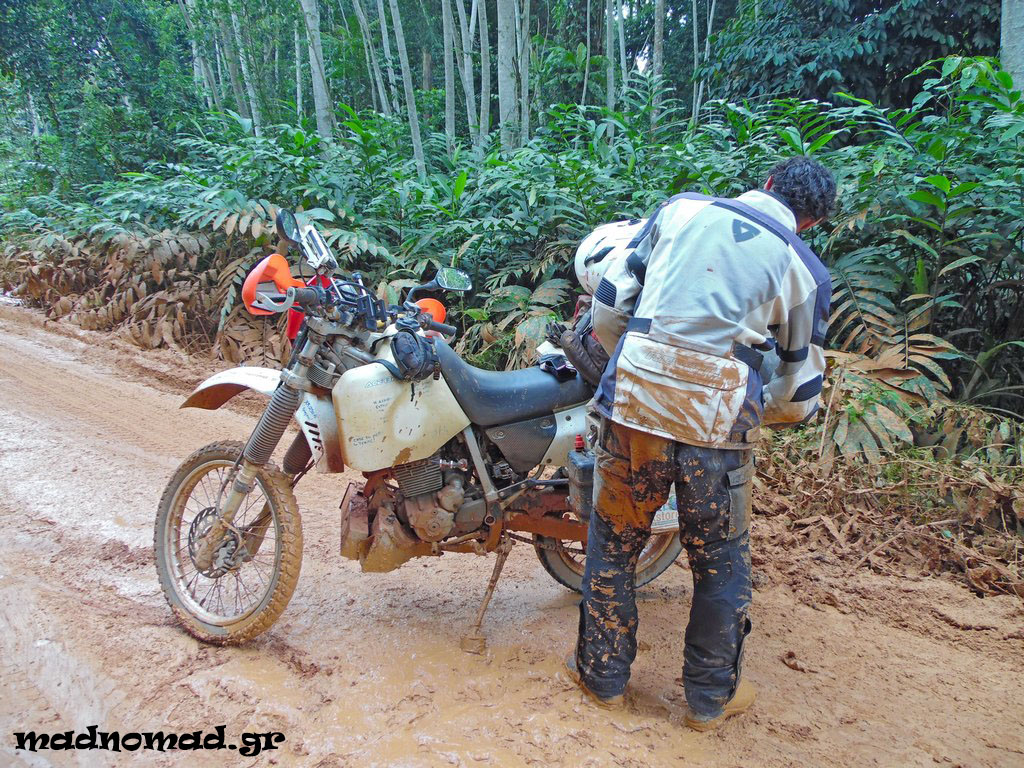motorbike: (150, 247, 688, 658)
